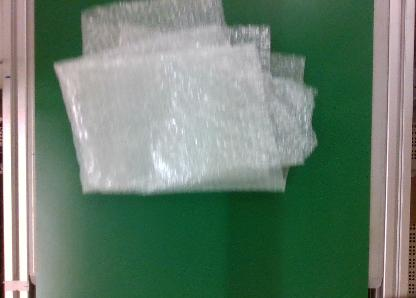Others: (50, 1, 318, 198)
